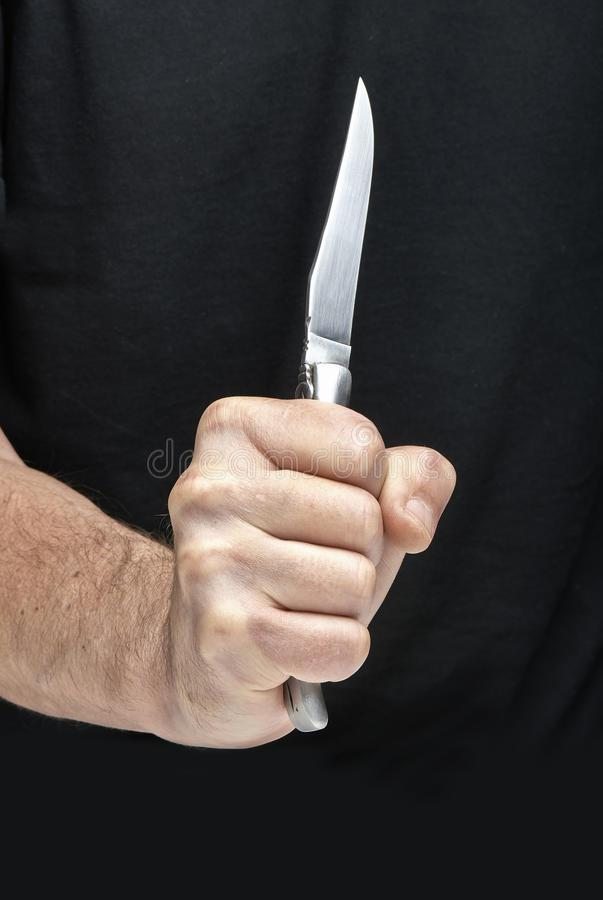weapon: (281, 70, 380, 740)
